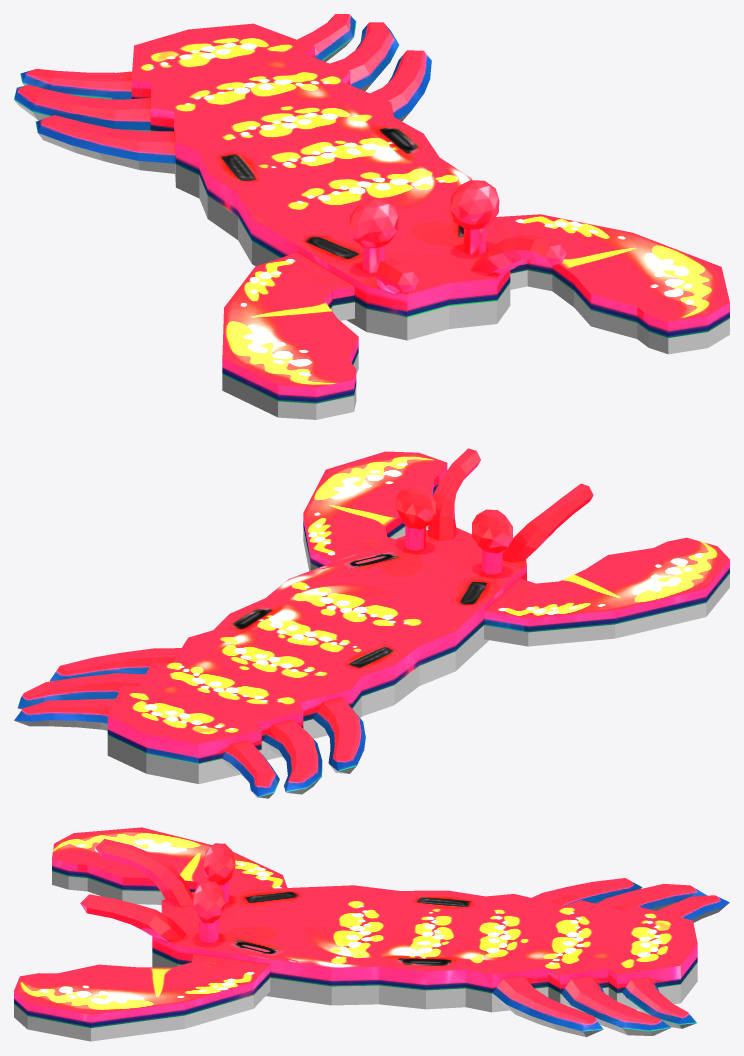
File: lobby.glb
3 renders of one model, top to bottom at view 1: azimuth 30°, elevation 25°; view 2: azimuth 150°, elevation 25°; view 3: azimuth 270°, elevation 25°, orthographic. The views are drawn at different scales.
Visible parts, largest first — view 1: LOBBY-Mat, LOBBY-LOBBY_YELLOW; view 2: LOBBY-Mat, LOBBY-LOBBY_YELLOW; view 3: LOBBY-Mat, LOBBY-LOBBY_YELLOW.
Part boxes in pixels (<box>): LOBBY-Mat: <box>14,14,729,403</box>; LOBBY-LOBBY_YELLOW: <box>14,38,729,419</box>; LOBBY-Mat: <box>14,448,729,796</box>; LOBBY-LOBBY_YELLOW: <box>15,525,729,798</box>; LOBBY-Mat: <box>14,827,729,1031</box>; LOBBY-LOBBY_YELLOW: <box>14,871,728,1041</box>.
Bounding box in the file's own units: 25.73 × 5.93 × 40.65.
Materials: 2 (1 with a texture image).
